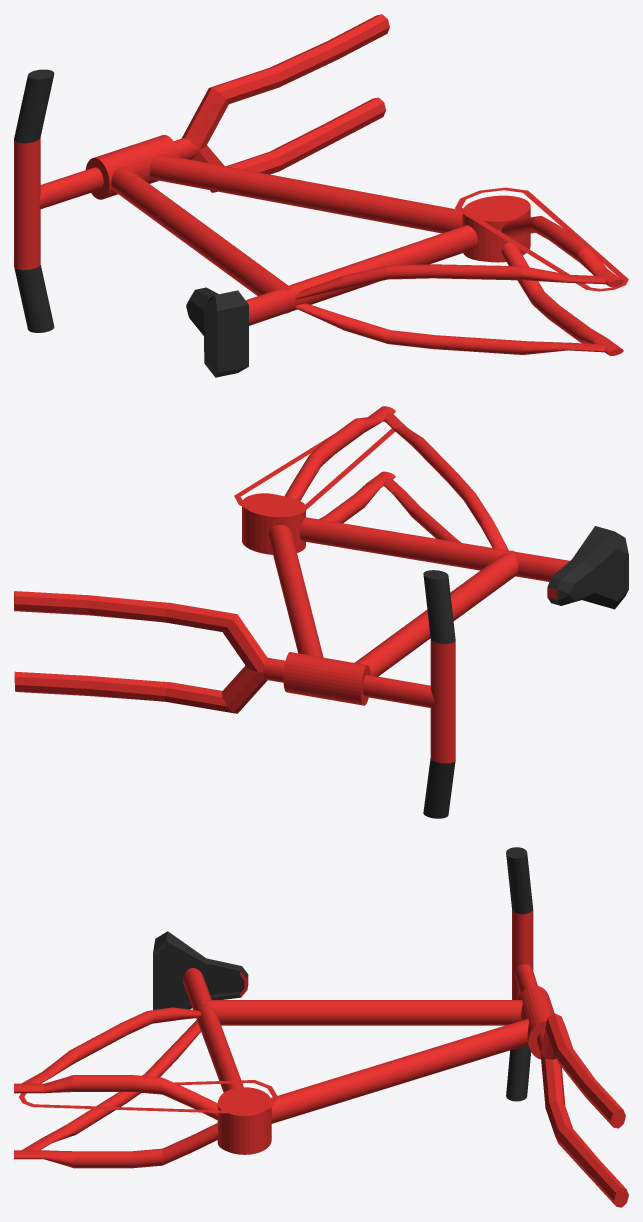
The model's file is Bicycle.fbx.
3 views of the same model, one above another, from view 1: azimuth 30°, elevation 25°; view 2: azimuth 150°, elevation 25°; view 3: azimuth 270°, elevation 25° (orthographic). The views are drawn at different scales.
Parts seen in each view (by area): view 1: Bicycle; view 2: Bicycle; view 3: Bicycle.
Boxes of the visible parts, x1,y1,x2,y2 form: Bicycle: [14, 14, 628, 377]; Bicycle: [14, 406, 628, 818]; Bicycle: [14, 847, 628, 1207].
Size of the model in its own units: 109 by 62.71 by 144.
